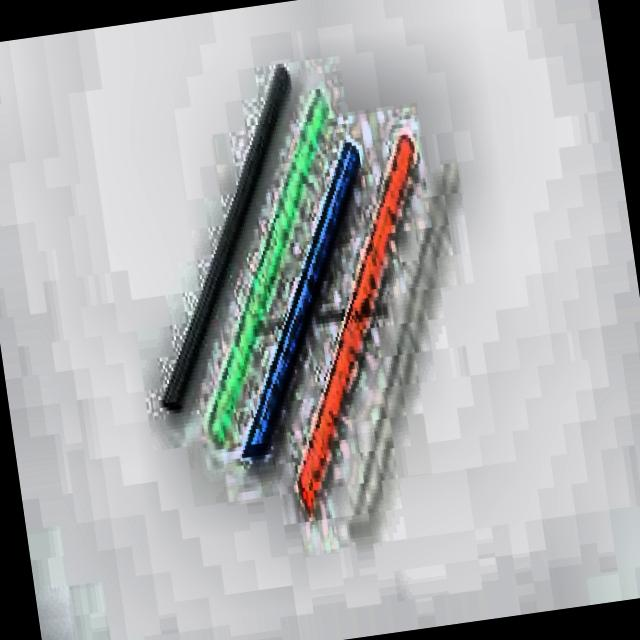plastic straw: (162, 67, 290, 408), (300, 135, 413, 513), (211, 92, 329, 440), (244, 142, 358, 455)
